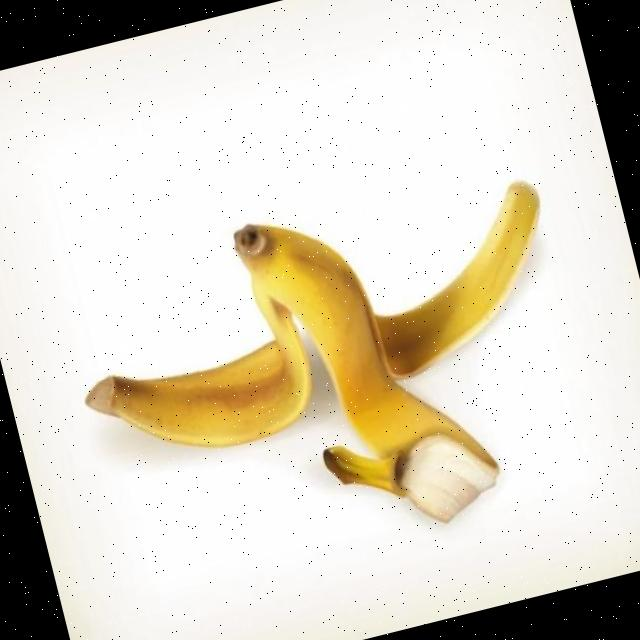banana-peel: (51, 150, 610, 600), (226, 177, 508, 557), (67, 280, 324, 478)
